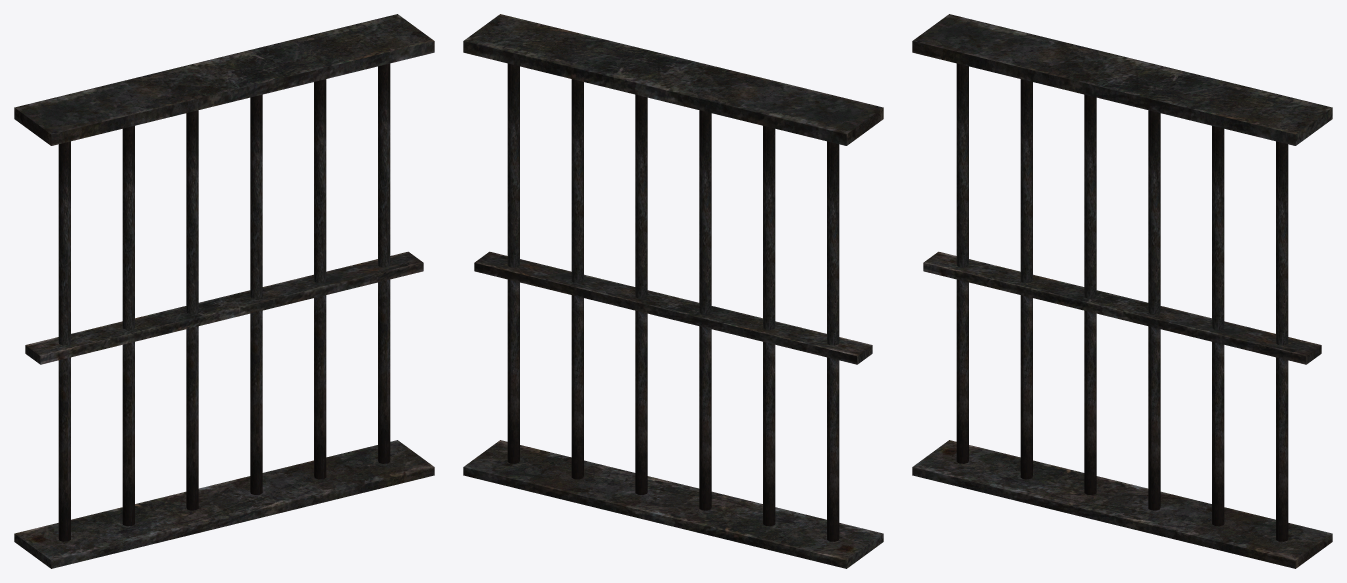
File: prisonbars.dae
3 renders of one model, left to right at view 1: azimuth 30°, elevation 25°; view 2: azimuth 150°, elevation 25°; view 3: azimuth 330°, elevation 25°, orthographic.
Parts seen in each view (by area): view 1: polySurface12; view 2: polySurface12; view 3: polySurface12.
Boxes of the visible parts, bbox=[...] form: polySurface12: bbox=[14, 14, 434, 568]; polySurface12: bbox=[463, 14, 883, 568]; polySurface12: bbox=[912, 14, 1332, 568].
Size of the model in its own units: 3 by 3.25 by 0.5.
